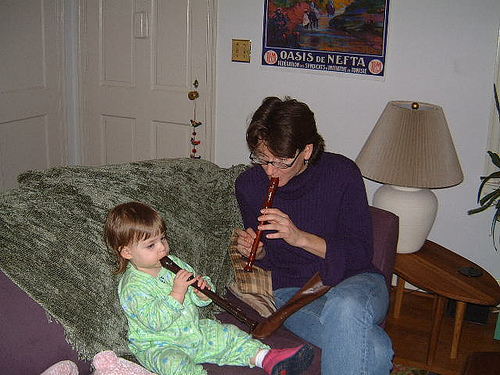without_mask: (252, 135, 313, 188), (114, 222, 172, 272)
